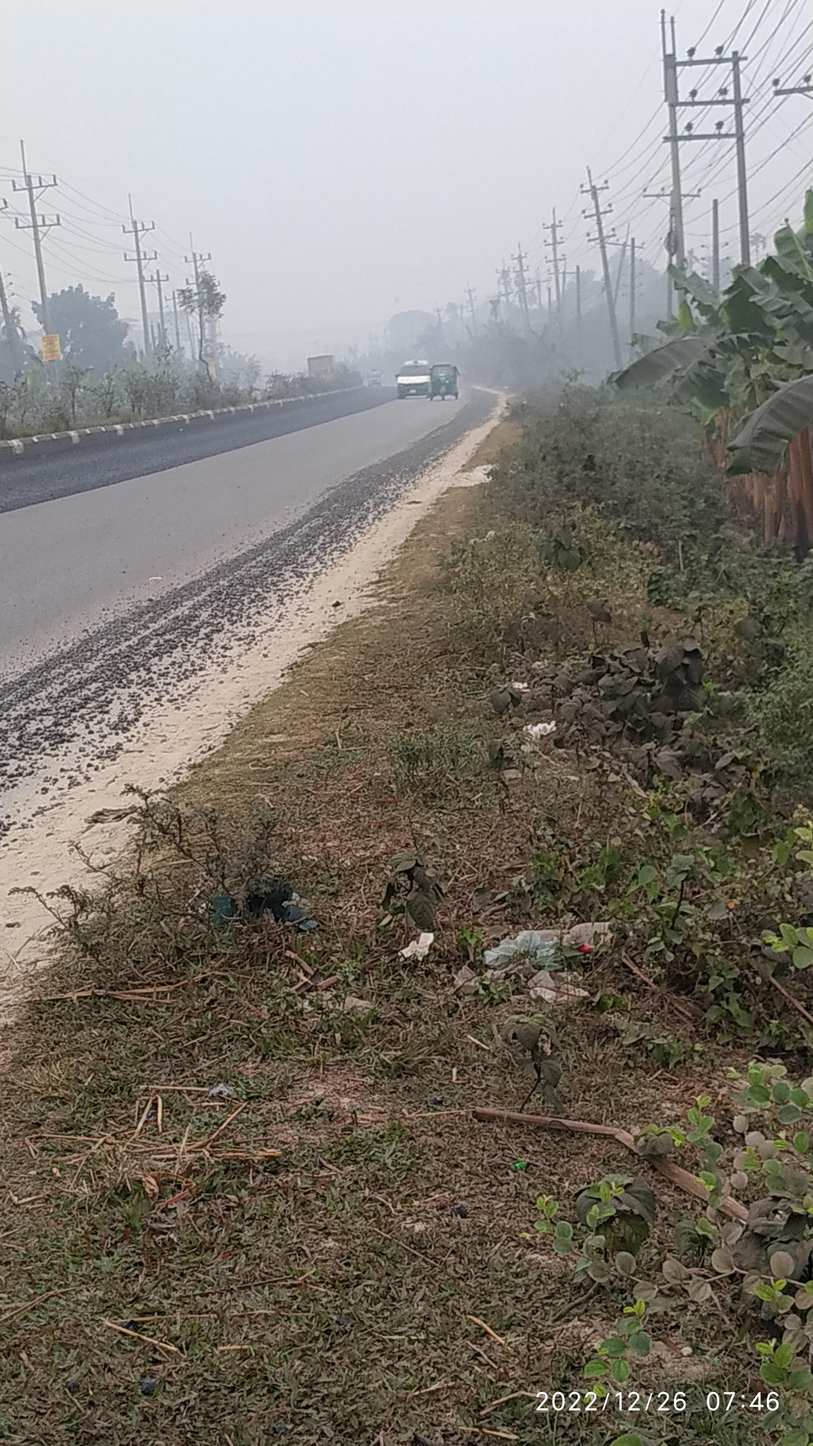Car: (385, 348, 434, 402)
